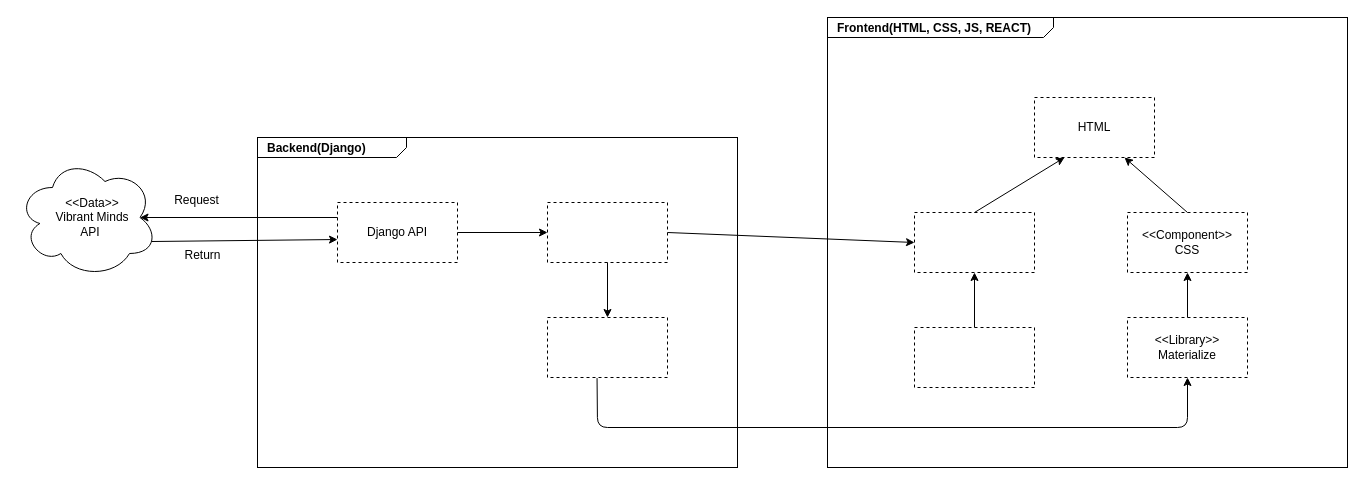
The diagram is 1365 pixels wide and 485 high, and some of its shapes have lost their labels. The centre of each missing label's shape, as x and y in pixels:
<<Component>> JS: pixel 974 242
<<Library>> D3: pixel 974 357
Data Organizor: pixel 607 232
Django Template: pixel 607 347
